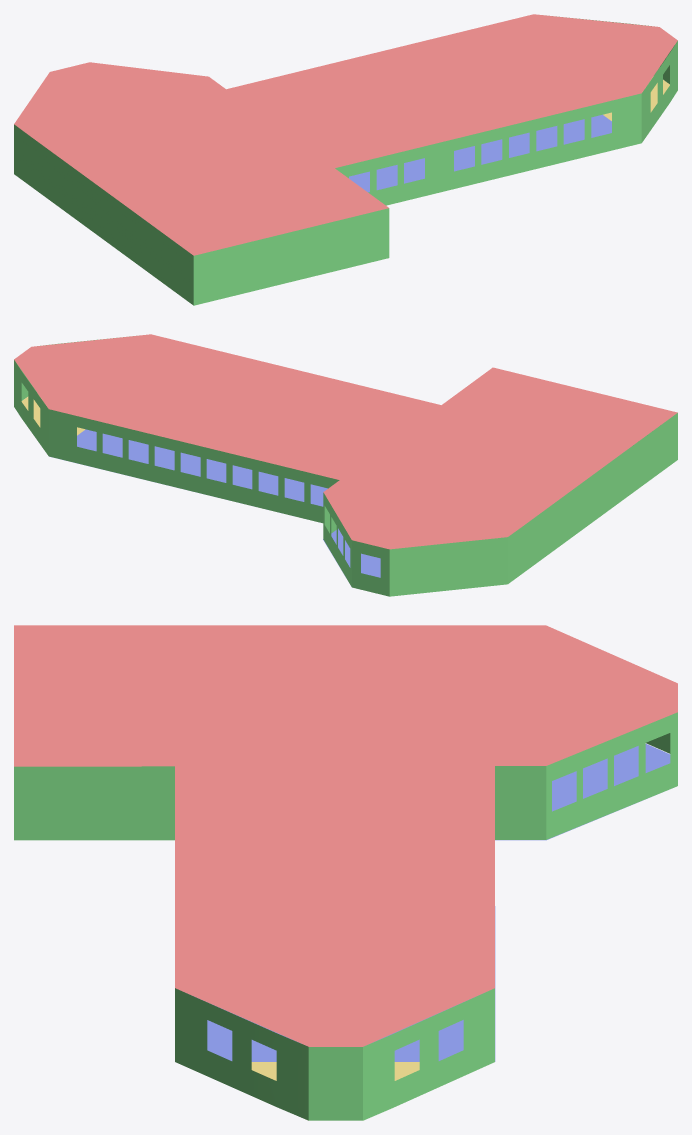
The model's file is 3IE_pieceFace.FBX.
3 renders of one model, top to bottom at view 1: azimuth 30°, elevation 25°; view 2: azimuth 150°, elevation 25°; view 3: azimuth 270°, elevation 25°, orthographic. The views are drawn at different scales.
Visible parts, largest first — view 1: plafondFACE, mursFACE, SOL_moquetteFACE; view 2: plafondFACE, mursFACE, SOL_moquetteFACE; view 3: plafondFACE, mursFACE, SOL_moquetteFACE.
Boxes of the visible parts, <box> form: plafondFACE: <box>14,14,677,255</box>; mursFACE: <box>14,16,677,305</box>; SOL_moquetteFACE: <box>349,114,611,192</box>; plafondFACE: <box>14,334,677,549</box>; mursFACE: <box>14,336,677,596</box>; SOL_moquetteFACE: <box>51,429,380,577</box>; plafondFACE: <box>14,625,677,1046</box>; mursFACE: <box>14,712,677,1120</box>; SOL_moquetteFACE: <box>194,744,670,1061</box>.
Bounding box in the file's own units: 1253 × 102 × 834.
